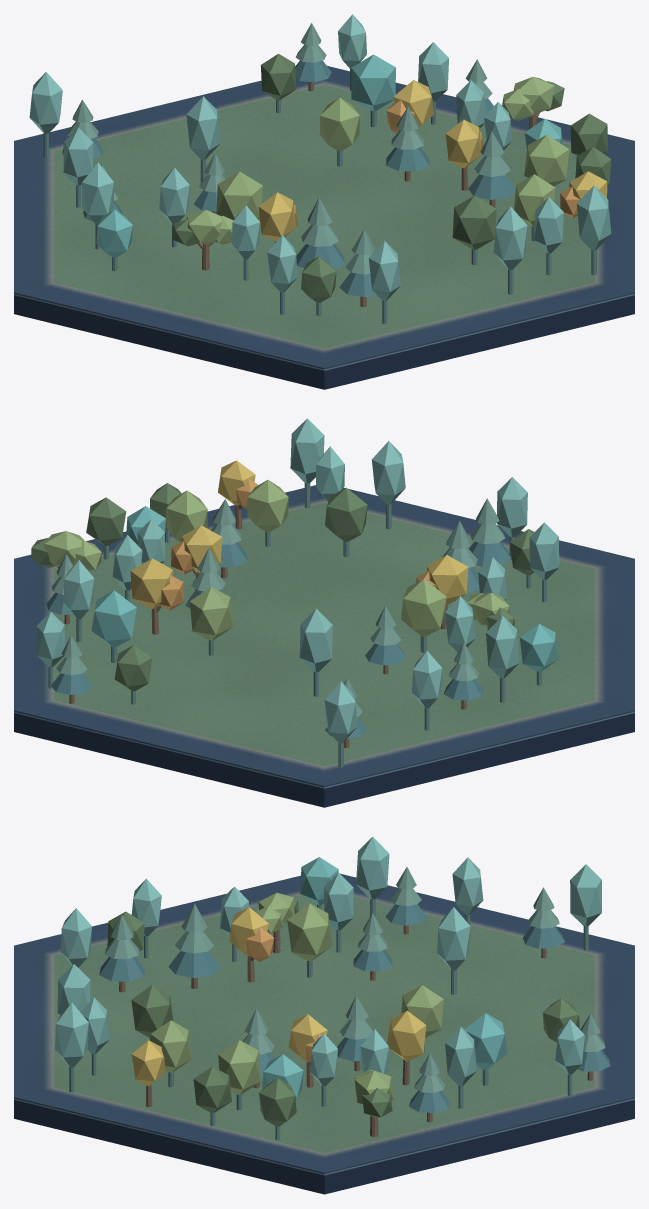
The model's file is campus_tile_forest_v01.glb.
3 renders of one model, top to bottom at view 1: azimuth 30°, elevation 25°; view 2: azimuth 150°, elevation 25°; view 3: azimuth 270°, elevation 25°, orthographic.
Parts seen in each view (by area): view 1: Forest terrain, Forest foliage; view 2: Forest terrain, Forest foliage; view 3: Forest terrain, Forest foliage.
Boxes of the visible parts, x1=… form: Forest terrain: x1=14, y1=66, x2=634, y2=389; Forest foliage: x1=29, y1=14, x2=611, y2=323; Forest terrain: x1=14, y1=485, x2=634, y2=807; Forest foliage: x1=31, y1=418, x2=559, y2=767; Forest terrain: x1=14, y1=873, x2=634, y2=1194; Forest foliage: x1=55, y1=836, x2=610, y2=1140.
Size of the model in its own units: 36 by 6.12 by 31.18.
Materials: 2 (2 with a texture image).
